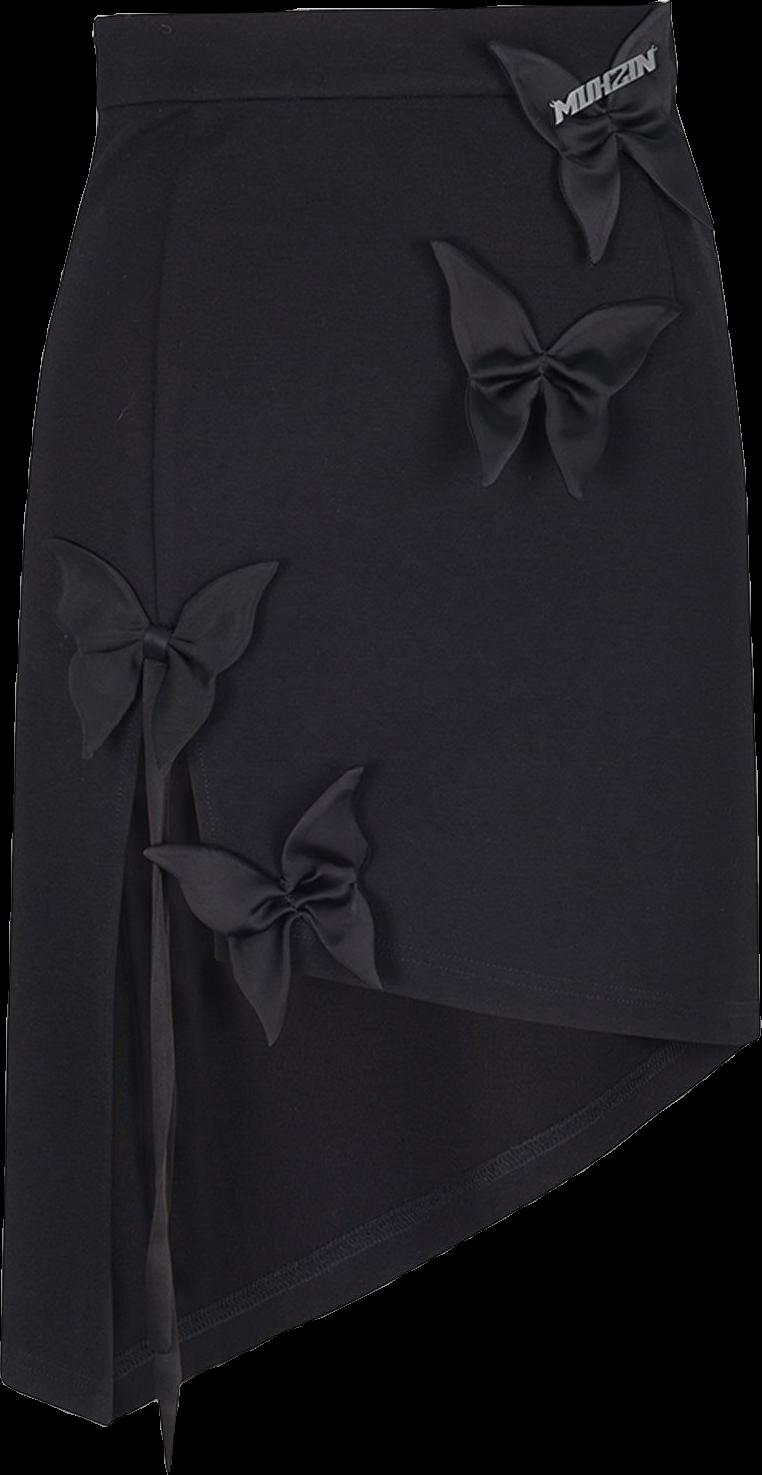Hemline: (143, 116, 761, 1055), (1, 197, 187, 1444)
Waistline: (94, 79, 679, 120), (96, 0, 669, 29)
